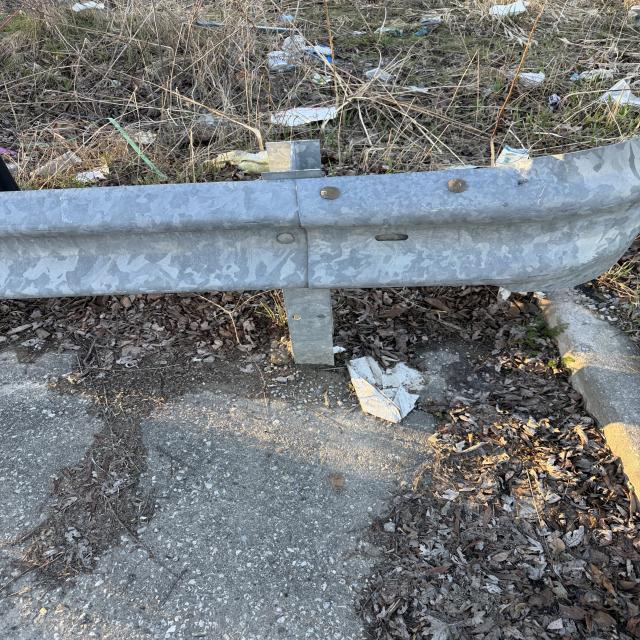Guard rail: (19, 150, 626, 288)
